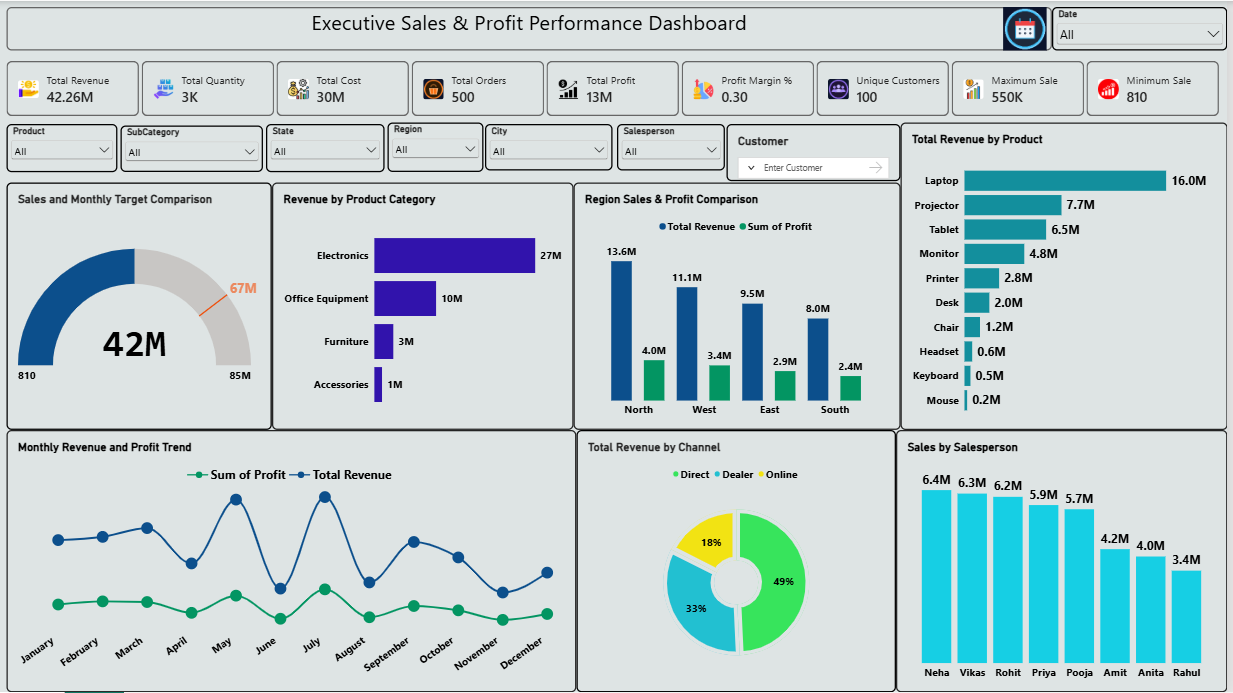

The dashboard page shown, as its layout file describes it:
{"tool":"powerbi","page":{"name":"Page 1","canvas":[1920,1080],"ordinal":0},"visuals":[{"type":"textbox","box":[11.7,9.4,1634.1,68],"z":0},{"type":"slicer","fields":{"Values":["Sales Data.Salesperson"]},"box":[965.9,192.2,168.8,72.7],"z":0,"group":"g1"},{"type":"cardVisual","fields":{"Data":["Customers.Total Revenue","Sales Data.Total Quantity","Sales Data.Total Cost","Sales Data.Total Orders","Sales Data.Total Profit","Sales Data.Profit Margin %","Sales Data.Unique Customers","Sales Data.Maximum Sale","Sales Data.Minimum Sale"]},"box":[11.7,93.8,1901.4,86.7],"z":1000},{"type":"slicer","fields":{"Values":["Targets.Region"]},"box":[607.2,189.9,150,77.4],"z":1000,"group":"g1"},{"type":"slicer","fields":{"Values":["Sales Data.State"]},"box":[417.3,192.2,185.2,75],"z":2000,"group":"g1"},{"type":"clusteredColumnChart","title":"Region Sales & Profit Comparison","fields":{"Category":["Sales Data.Region"],"Y":["Customers.Total Revenue","Sum(Sales Data.Profit)"]},"box":[897.9,283.7,511.1,386.8],"z":2000},{"type":"barChart","fields":{"Category":["Products.Product"],"Y":["Customers.Total Revenue"]},"box":[1409,189.9,511.1,480.6],"z":3000},{"type":"slicer","fields":{"Values":["Sales Data.SubCategory"]},"box":[189.9,194.6,222.7,72.7],"z":3000,"group":"g1"},{"type":"textSlicer","fields":{"Values":["Sales Data.Customer"]},"box":[1137.7,192.5,272,89.1],"z":4000,"group":"g1"},{"type":"donutChart","fields":{"Category":["Sales Data.Channel"],"Y":["Customers.Total Revenue"]},"box":[902.6,670.5,499.4,410.3],"z":4000},{"type":"slicer","fields":{"Values":["Sales Data.Product"]},"box":[11.7,192.2,173.5,75],"z":5000,"group":"g1"},{"type":"lineChart","title":"Monthly Revenue and Profit Trend","fields":{"Y":["Sum(Sales Data.Profit)","Customers.Total Revenue"],"Category":["Sales Data.Date.Variation.Date Hierarchy.Month"]},"box":[11.7,670.5,890.9,410.3],"z":5000},{"type":"slicer","fields":{"Values":["Customers.City"]},"box":[759.6,192.2,199.3,72.7],"z":6000,"group":"g1"},{"type":"barChart","title":"Revenue by Product Category","fields":{"Y":["Customers.Total Revenue"],"Category":["Products.SubCategory"]},"box":[426.7,283.7,471.2,386.8],"z":6000},{"type":"gauge","title":"Sales and  Monthly Target Comparison ","fields":{"MinValue":["Sales Data.Minimum Sale"],"Y":["Sum(Sales Data.SalesAmount)"],"TargetValue":["Sum(Targets.MonthlyTarget)"]},"box":[11.7,283.7,415,386.8],"z":7000},{"type":"slicer","fields":{"Values":["Sales Data.Date"]},"box":[1645.8,9.4,274.3,68],"z":8000},{"type":"image","box":[1561.4,9.4,84.4,68],"z":9000},{"type":"group","id":"g1","title":"Group 1","box":[11.7,189.9,1398,91.7],"z":10000},{"type":"columnChart","title":"Sales by Salesperson","fields":{"Category":["Sales Data.Salesperson"],"Y":["Sales Data.Total Sales"]},"box":[1402,670.5,518.1,410.3],"z":11000}]}

Visuals, with their boxes in screenshot pixels (x1, y1, x2, y2), scaled from the page's 1920x1080 canvas onto the 1233x693 screenshot:
textbox: x1=8, y1=6, x2=1057, y2=50
slicer - Sales Data.Salesperson: x1=620, y1=123, x2=729, y2=170
cardVisual - Customers.Total Revenue x Sales Data.Total Quantity: x1=8, y1=60, x2=1229, y2=116
slicer - Targets.Region: x1=390, y1=122, x2=486, y2=172
slicer - Sales Data.State: x1=268, y1=123, x2=387, y2=171
"Region Sales & Profit Comparison" clusteredColumnChart: x1=577, y1=182, x2=905, y2=430
barChart - Products.Product x Customers.Total Revenue: x1=905, y1=122, x2=1232, y2=430
slicer - Sales Data.SubCategory: x1=122, y1=125, x2=265, y2=172
textSlicer - Sales Data.Customer: x1=731, y1=124, x2=905, y2=181
donutChart - Sales Data.Channel x Customers.Total Revenue: x1=580, y1=430, x2=900, y2=692
slicer - Sales Data.Product: x1=8, y1=123, x2=119, y2=171
"Monthly Revenue and Profit Trend" lineChart: x1=8, y1=430, x2=580, y2=692
slicer - Customers.City: x1=488, y1=123, x2=616, y2=170
"Revenue by Product Category" barChart: x1=274, y1=182, x2=577, y2=430
"Sales and  Monthly Target Comparison " gauge: x1=8, y1=182, x2=274, y2=430
slicer - Sales Data.Date: x1=1057, y1=6, x2=1232, y2=50
image: x1=1003, y1=6, x2=1057, y2=50
"Group 1" group: x1=8, y1=122, x2=905, y2=181
"Sales by Salesperson" columnChart: x1=900, y1=430, x2=1232, y2=692
